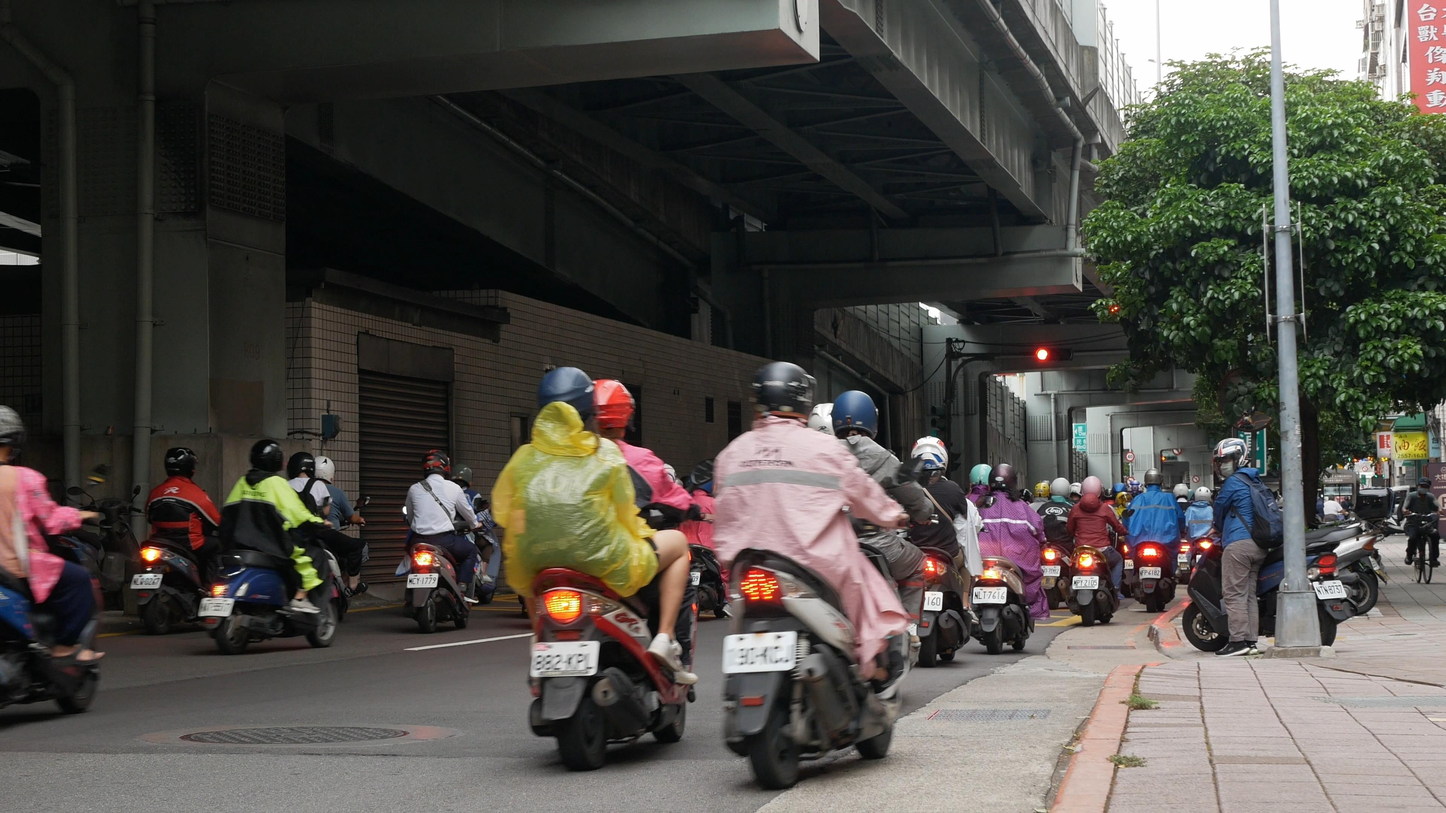bicyclist: (1401, 477, 1444, 584)
driver: (711, 361, 924, 790), (490, 367, 713, 772), (0, 404, 109, 714), (197, 439, 340, 654), (904, 436, 997, 668), (130, 446, 221, 636), (969, 463, 1057, 655), (402, 449, 490, 635), (1067, 476, 1135, 627), (1120, 468, 1186, 613)
helmet: (748, 361, 818, 424), (537, 367, 594, 425), (831, 390, 879, 440), (592, 379, 636, 431), (1212, 438, 1253, 482), (0, 404, 27, 464), (911, 435, 948, 476), (164, 446, 199, 480), (251, 439, 286, 473), (807, 403, 836, 436), (422, 449, 451, 480), (287, 452, 316, 479), (988, 464, 1017, 491), (315, 456, 336, 484), (969, 464, 992, 489), (450, 464, 473, 488), (1081, 476, 1103, 498), (1050, 477, 1071, 499), (1144, 468, 1164, 489), (1115, 492, 1133, 509), (1194, 486, 1211, 503), (1127, 480, 1144, 497), (1173, 483, 1189, 500), (1034, 483, 1050, 498), (1112, 483, 1128, 498), (1069, 482, 1083, 499), (1102, 489, 1114, 501)
no-helmet: (1416, 477, 1431, 495)
